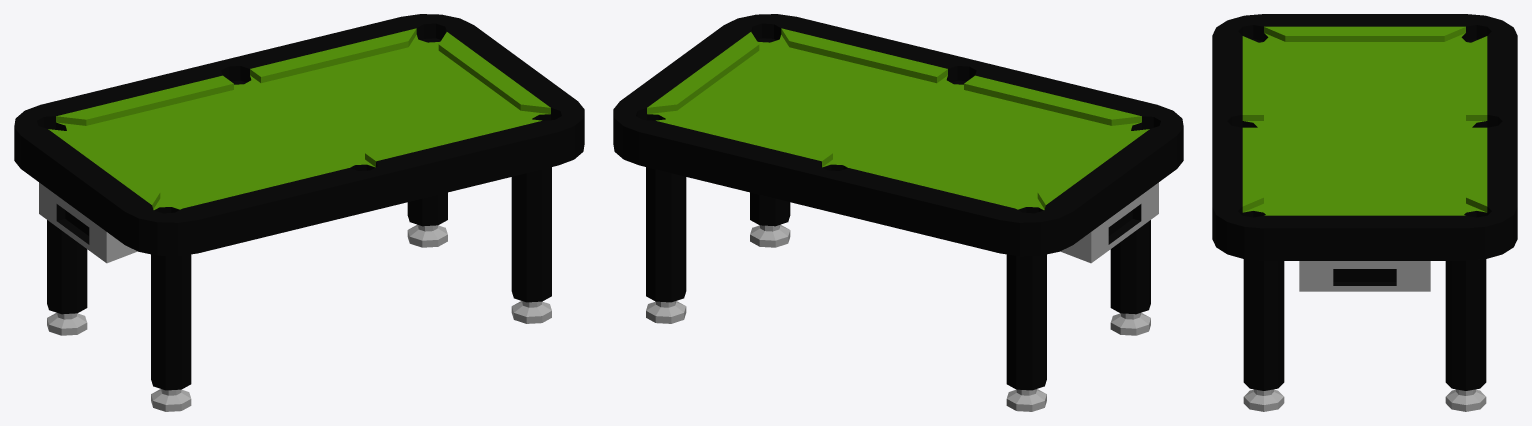
The model's file is ビリヤード台.fbx.
3 renders of one model, left to right at view 1: azimuth 30°, elevation 25°; view 2: azimuth 150°, elevation 25°; view 3: azimuth 270°, elevation 25°, orthographic. The views are drawn at different scales.
Parts seen in each view (by area): view 1: 平面; view 2: 平面; view 3: 平面.
Part boxes in pixels (x1=…): 平面: x1=14, y1=14, x2=584, y2=411; 平面: x1=613, y1=14, x2=1183, y2=411; 平面: x1=1212, y1=14, x2=1517, y2=411.
Bounding box in the file's own units: 502 × 215 × 302.
